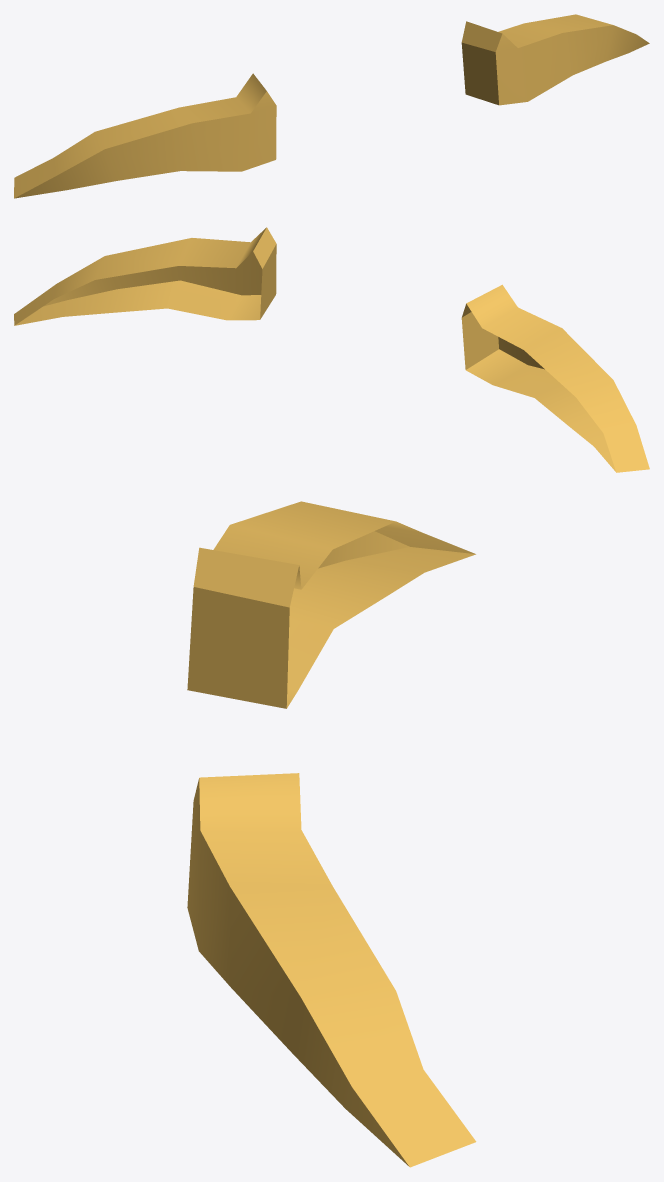
Rendered from Brow_Yellow_3.fbx.
3 renders of one model, top to bottom at view 1: azimuth 30°, elevation 25°; view 2: azimuth 150°, elevation 25°; view 3: azimuth 270°, elevation 25°, orthographic. The views are drawn at different scales.
Visible parts, largest first — view 1: Brow_Yellow_3; view 2: Brow_Yellow_3; view 3: Brow_Yellow_3.
Boxes of the visible parts, <box> form: Brow_Yellow_3: <box>14,14,649,198</box>; Brow_Yellow_3: <box>14,227,649,472</box>; Brow_Yellow_3: <box>187,501,476,1167</box>.
Bounding box in the file's own units: 32.72 × 4.78 × 6.44.
